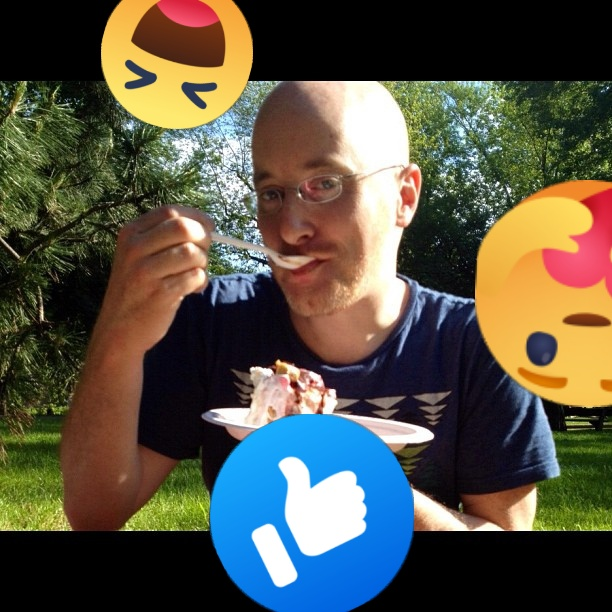care: (475, 180, 612, 407)
haha: (101, 0, 253, 129)
like: (210, 414, 414, 612)
